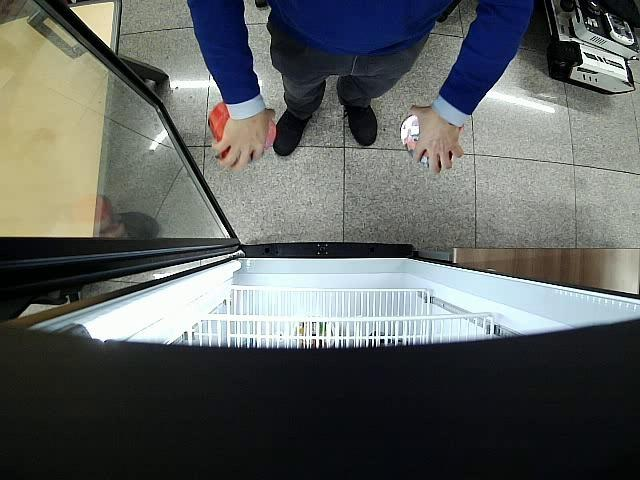01_ShinRamen_L: (208, 104, 276, 160), (400, 117, 452, 166)
